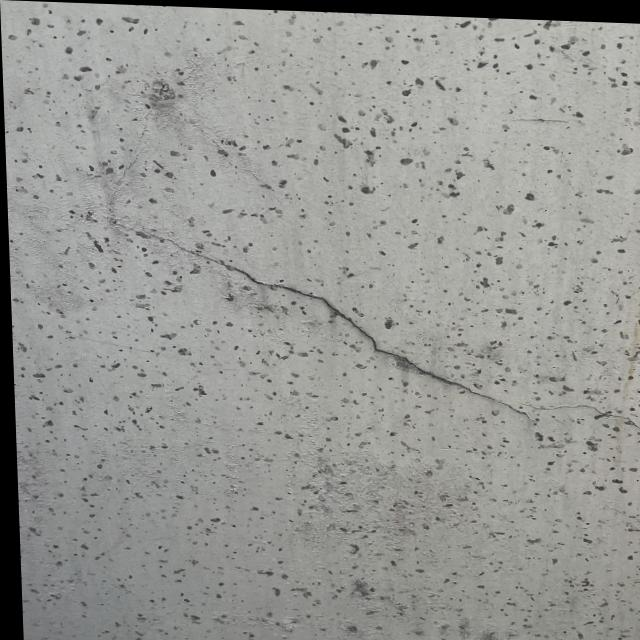crack: (94, 190, 587, 461)
